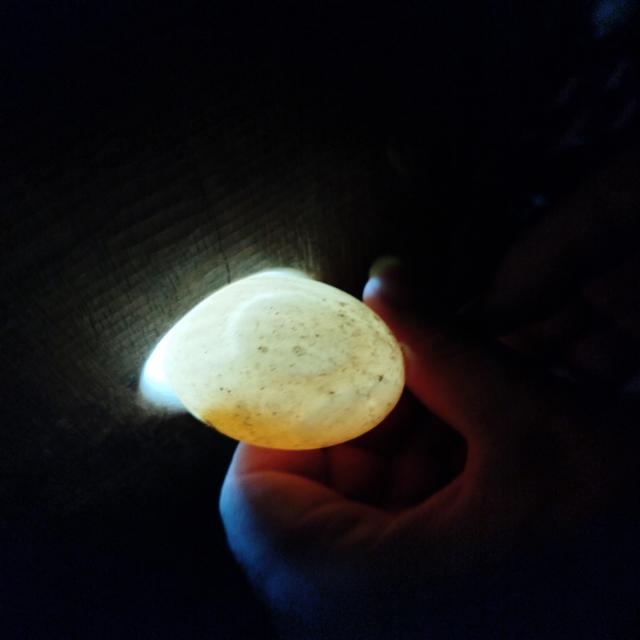Camara de Ar: (237, 294, 352, 374)
